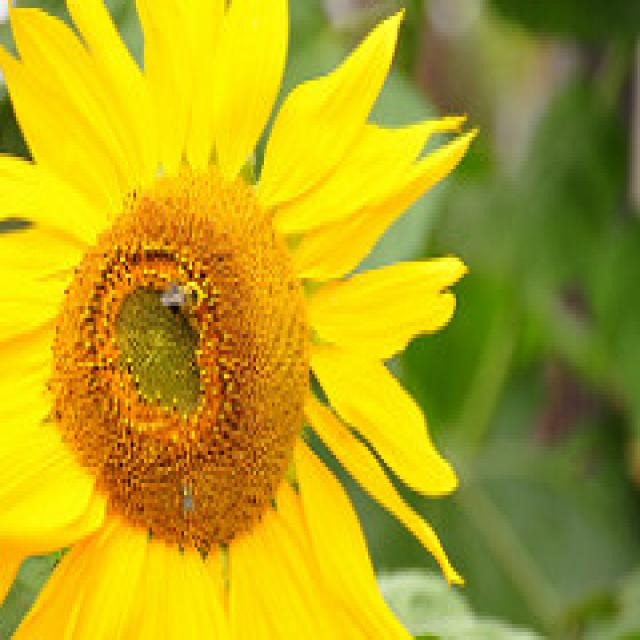sunflower: (0, 12, 515, 640)
